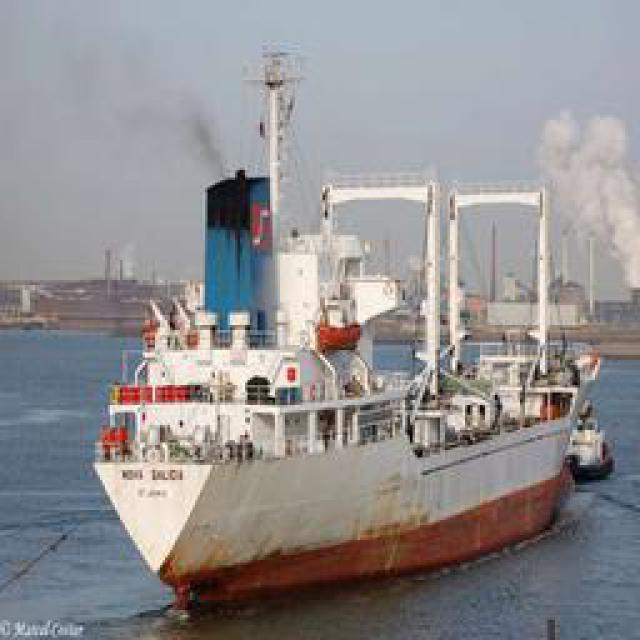Ship: (101, 138, 599, 616)
